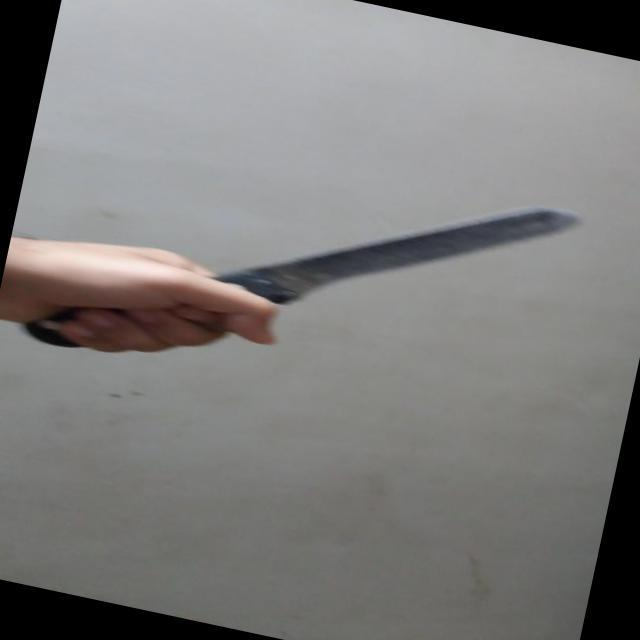Knife: (18, 100, 605, 460)
